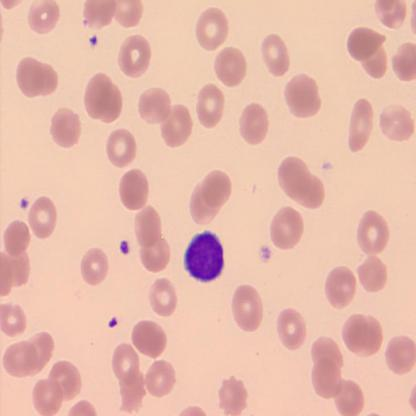Lymphocyte: (184, 229, 224, 283)
